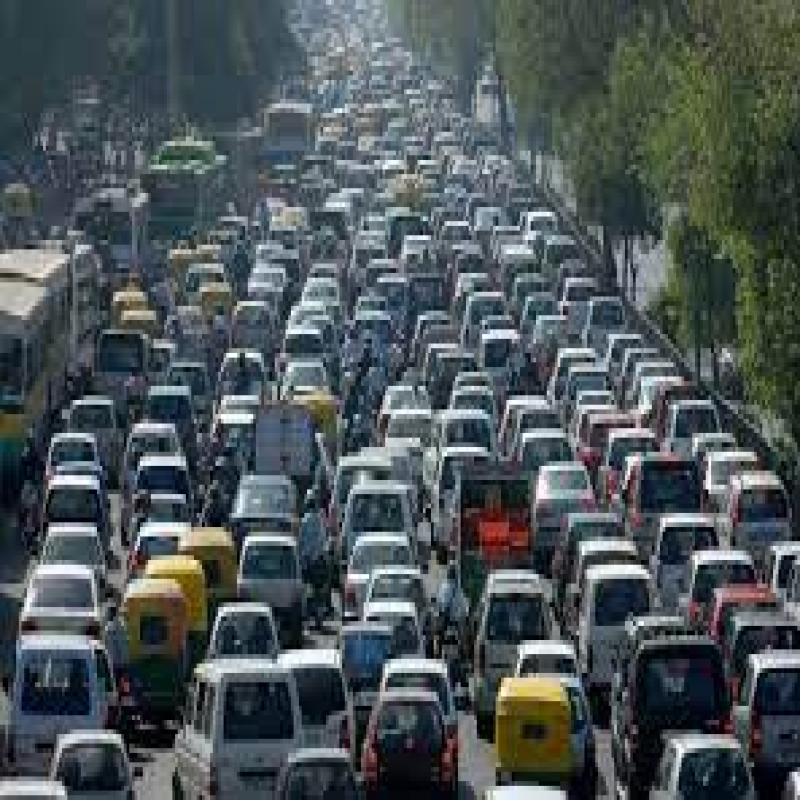auto: (491, 673, 576, 800), (123, 567, 188, 722)
car: (611, 602, 716, 783), (182, 654, 291, 800), (7, 643, 121, 779), (477, 560, 553, 710), (648, 727, 784, 800), (366, 685, 450, 800), (243, 535, 315, 627), (534, 443, 586, 539)
